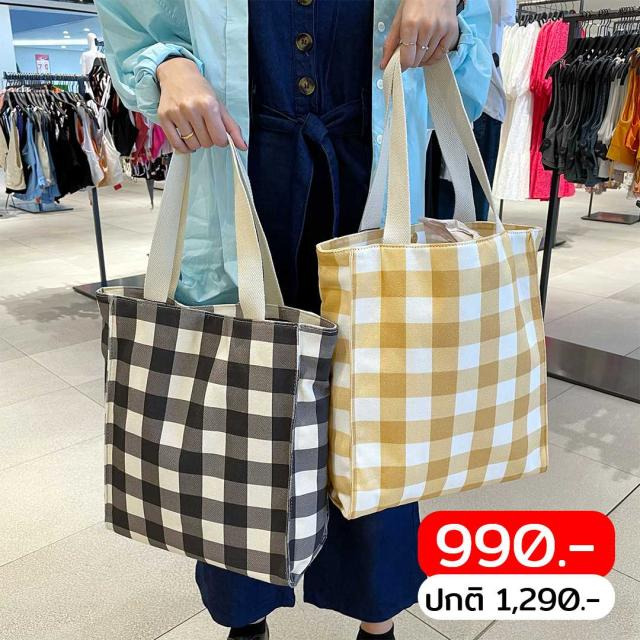Handbag: (316, 209, 569, 524), (90, 267, 332, 587)
